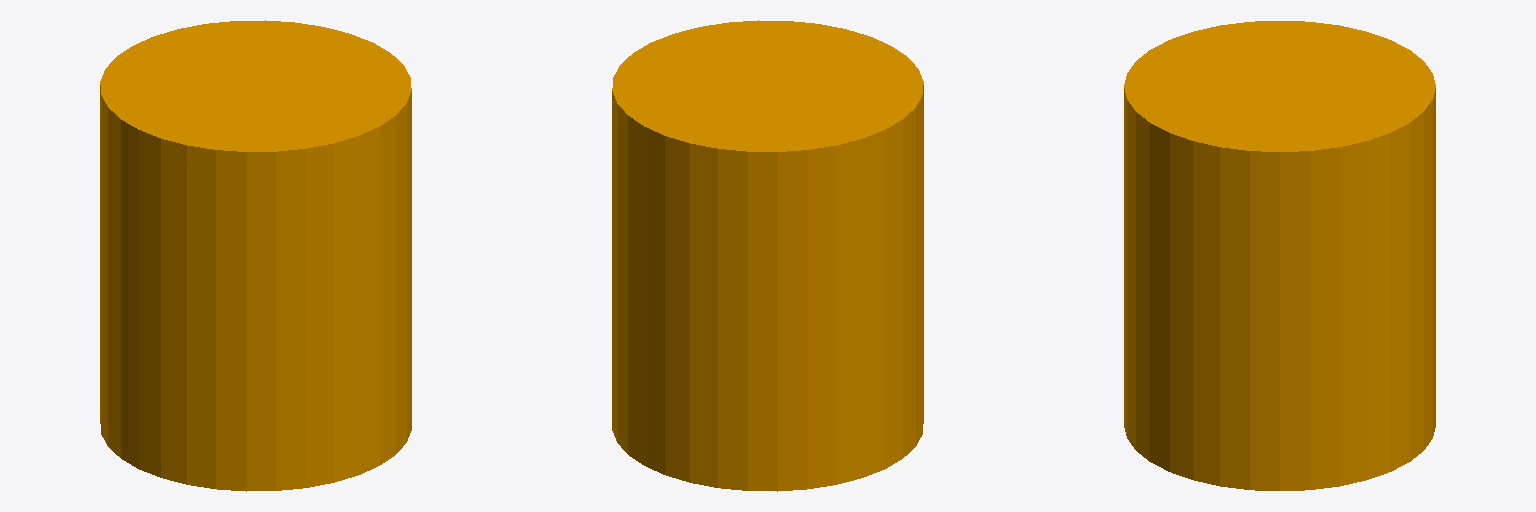
robot.urdf — object:
<robot name="object">
  <link name="object">
    <visual>
      <origin xyz="0 0 0" />
      <geometry>
        <cylinder length="0.09600000000000003" radius="0.04" />
      </geometry>
    </visual>

    <collision>
      <origin xyz="0 0 0" />
      <geometry>
        <cylinder length="0.09600000000000003" radius="0.04" />
      </geometry>
    </collision>

    <inertial>
      <mass value="0.05" />
      <inertia ixx="0.0001" ixy="0.0" ixz="0.0" iyy="0.0001" iyz="0.0" izz="0.0001" />
    </inertial>
  </link>
</robot>

--- What the picture shows (computed from the rendered views, not written in the file) ---
3 views of the same robot in one strip: view 1: azimuth 30°, elevation 25°; view 2: azimuth 150°, elevation 25°; view 3: azimuth 270°, elevation 25° (orthographic).
Model object with 1 links and 0 joints (none), rooted at object, posed every joint at zero.
Links seen in each view (by area): view 1: object; view 2: object; view 3: object.
Link boxes in pixels (x1,y1,x2,y2): object: (100,20,411,491); object: (612,20,923,491); object: (1124,21,1435,490).
Size in the robot's own frame: 0.08 by 0.08 by 0.096 metres.
Geometry: primitives only (box / cylinder / sphere), no mesh files.